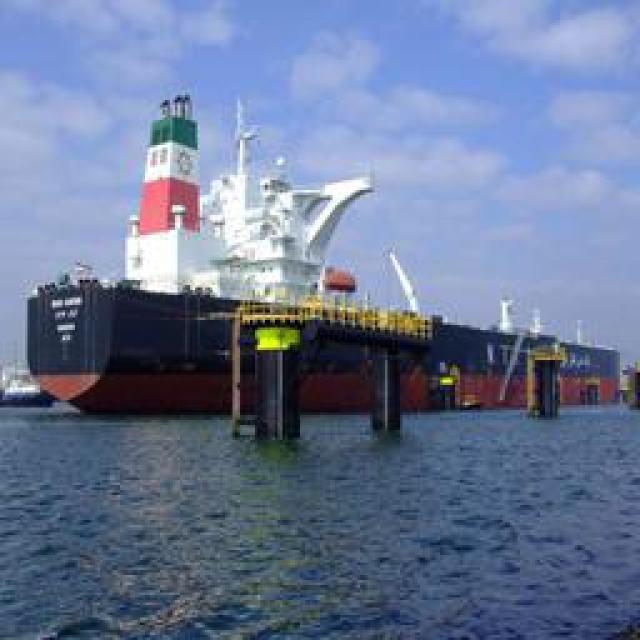Ship: (27, 87, 400, 415)
